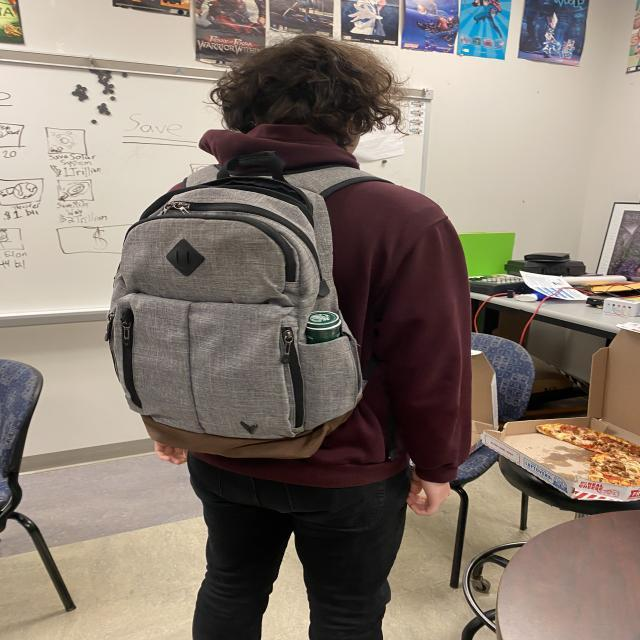Backpacks: (100, 172, 369, 459)
